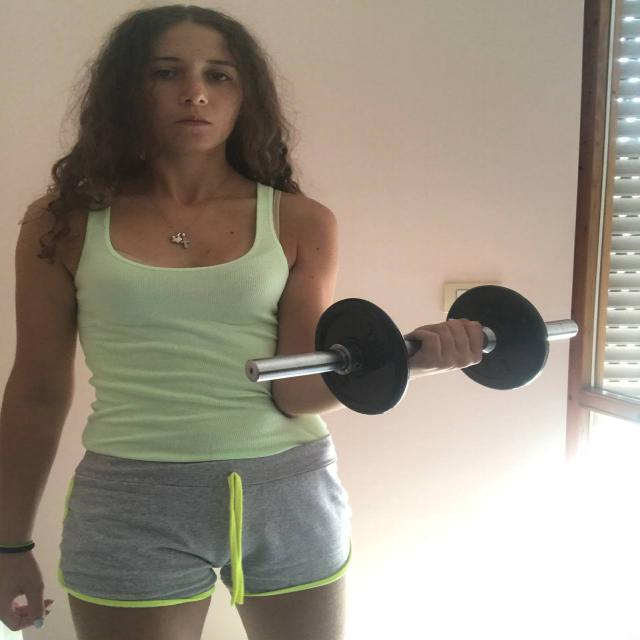Gym Weights: (232, 277, 595, 419)
